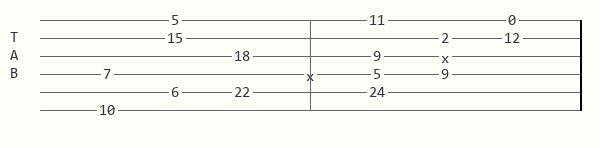0: (508, 13, 520, 27)
10: (99, 103, 119, 117)
11: (369, 13, 389, 27)
12: (504, 31, 524, 45)
15: (167, 31, 187, 45)
18: (234, 49, 254, 63)
2: (441, 31, 453, 45)
22: (234, 85, 254, 99)
24: (369, 85, 389, 99)
5: (171, 13, 183, 27), (373, 67, 385, 81)
6: (171, 85, 183, 99)
7: (103, 67, 115, 81)
9: (373, 49, 385, 63), (441, 67, 453, 81)
x: (306, 69, 318, 80), (441, 51, 453, 62)
